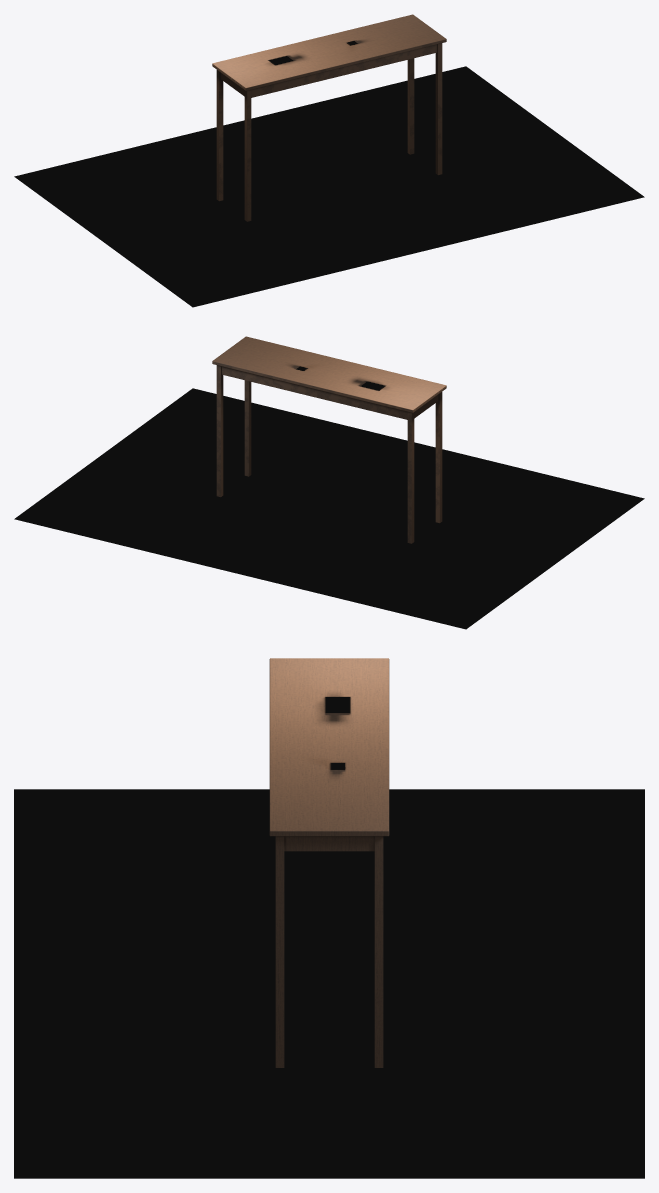
3 views of the same model, one above another, from view 1: azimuth 30°, elevation 25°; view 2: azimuth 150°, elevation 25°; view 3: azimuth 270°, elevation 25° (orthographic). The views are drawn at different scales.
Parts seen in each view (by area): view 1: Shadow, Table; view 2: Shadow, Table; view 3: Shadow, Table.
Boxes of the visible parts, x1=… form: Shadow: x1=14, y1=66, x2=644, y2=307; Table: x1=212, y1=14, x2=446, y2=221; Shadow: x1=14, y1=388, x2=644, y2=629; Table: x1=212, y1=336, x2=446, y2=543; Shadow: x1=14, y1=789, x2=644, y2=1178; Table: x1=269, y1=658, x2=389, y2=1067.
Size of the model in its own units: 10.8 by 3.1 by 7.4.
2 materials, 2 textured.
